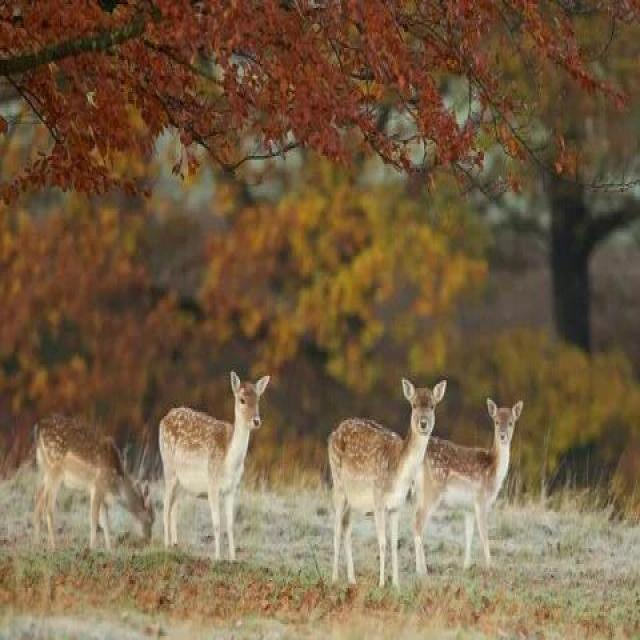deer: (144, 355, 280, 537), (330, 364, 432, 591), (48, 383, 166, 553), (420, 383, 514, 562)
